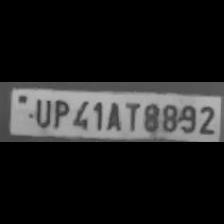1: (88, 99, 104, 130)
2: (196, 103, 216, 135)
4: (69, 98, 91, 130)
8: (140, 101, 160, 133), (160, 102, 178, 132)
9: (178, 102, 196, 134)
A: (100, 99, 122, 131)
P: (50, 97, 68, 128)
T: (122, 99, 140, 131)
U: (31, 96, 51, 128)
